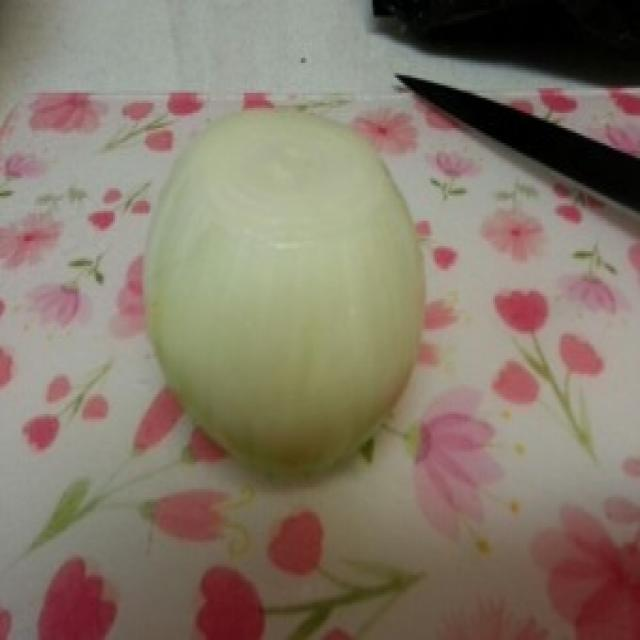onion: (137, 82, 454, 504)
